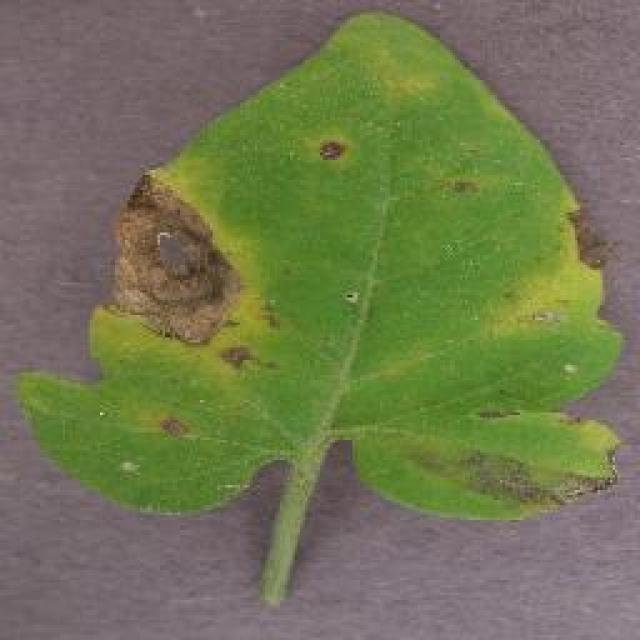Tomato target spot leaf: (21, 11, 619, 514)
